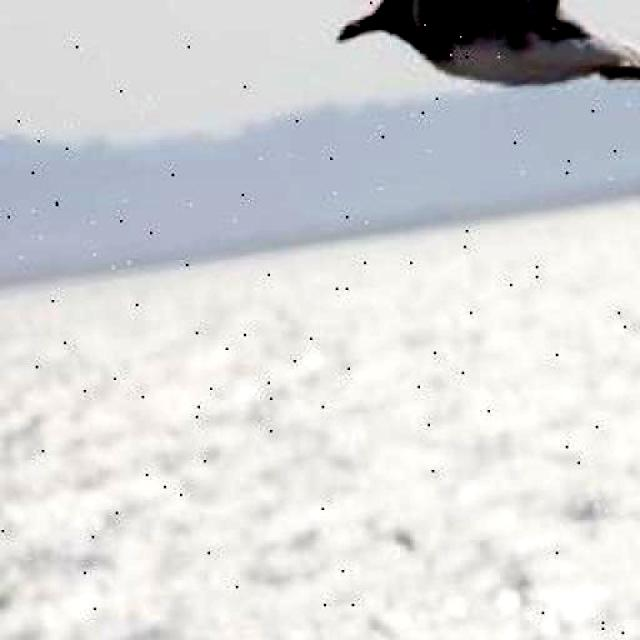airplane: (272, 0, 640, 132)
